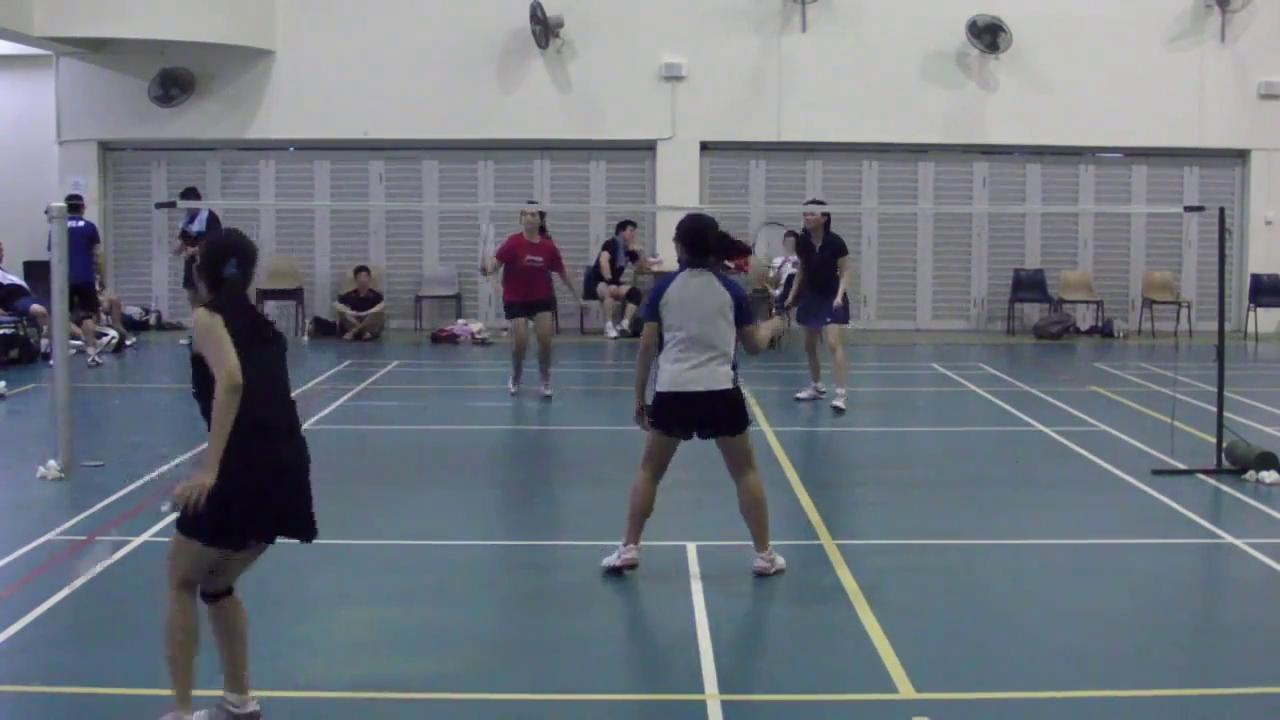victim: (152, 228, 322, 720), (586, 208, 806, 587), (474, 192, 594, 403), (778, 190, 864, 416), (166, 182, 236, 351), (66, 192, 108, 369)
